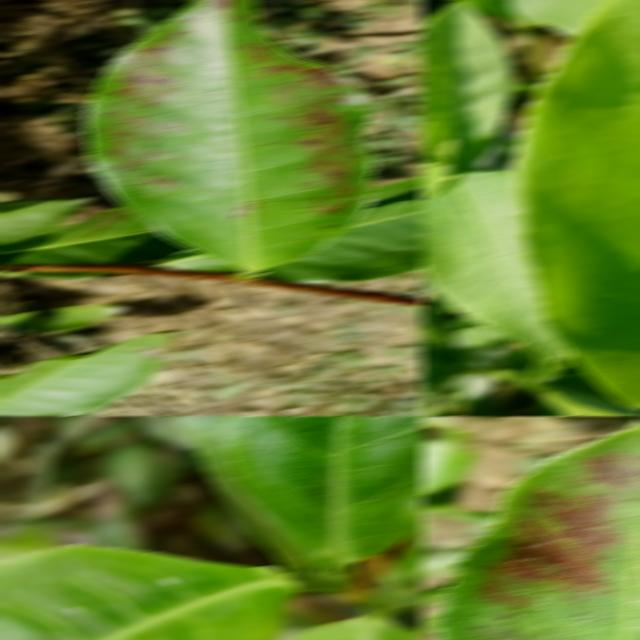Leaf: (85, 0, 377, 276), (514, 0, 640, 408), (437, 419, 640, 640), (222, 416, 424, 579), (420, 170, 568, 365), (0, 545, 297, 640), (262, 176, 424, 281), (420, 1, 514, 173), (0, 332, 170, 416), (0, 206, 191, 264), (0, 197, 92, 245), (507, 0, 609, 36), (420, 431, 476, 495), (0, 304, 125, 331)
